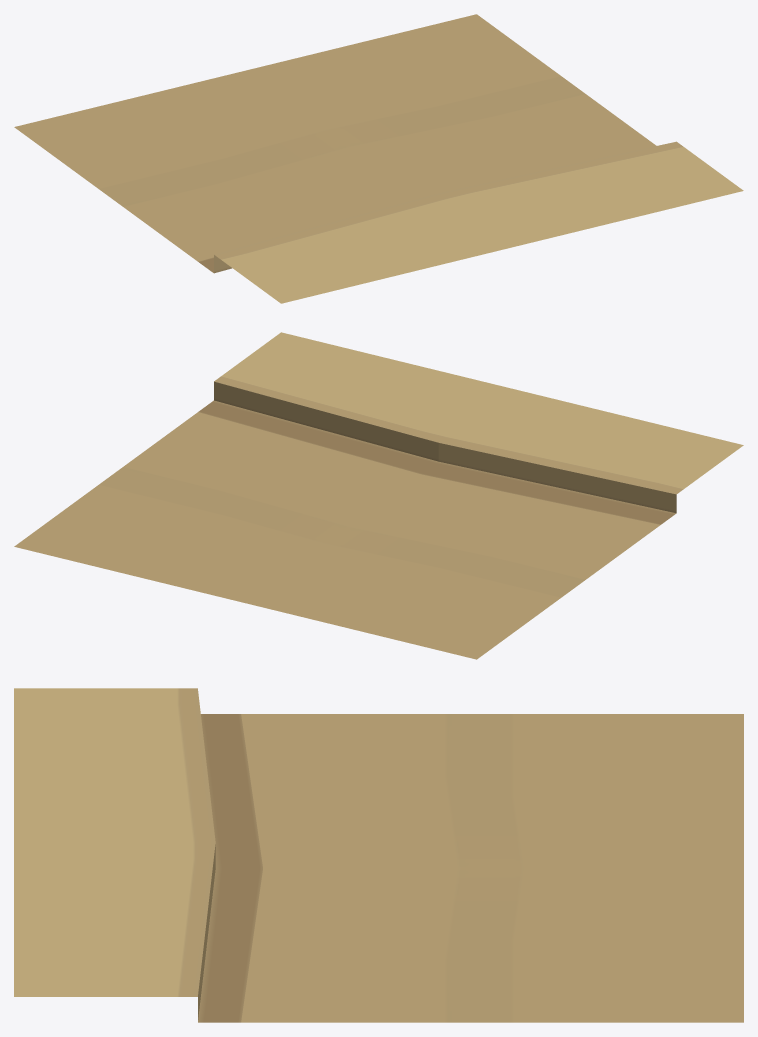
The model's file is SM_Env_Road_Dirt_Short_01.fbx.
3 renders of one model, top to bottom at view 1: azimuth 30°, elevation 25°; view 2: azimuth 150°, elevation 25°; view 3: azimuth 270°, elevation 25°, orthographic. The views are drawn at different scales.
Parts seen in each view (by area): view 1: SM_Env_Road_Dirt_Short_01; view 2: SM_Env_Road_Dirt_Short_01; view 3: SM_Env_Road_Dirt_Short_01.
Boxes of the visible parts, x1,y1,x2,y2 form: SM_Env_Road_Dirt_Short_01: (14,14,743,303); SM_Env_Road_Dirt_Short_01: (14,332,743,659); SM_Env_Road_Dirt_Short_01: (14,688,743,1022).
Size of the model in its own units: 5 by 0.1948 by 5.
